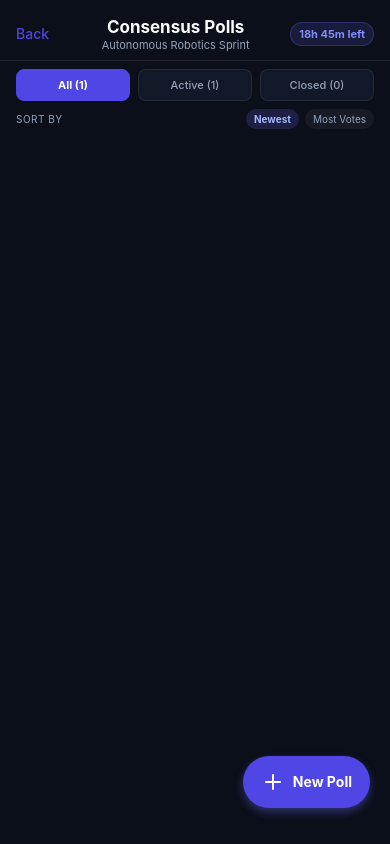
PollsScreen › opens CreatePollModal when FAB is pressed
Click the element with test id "create-poll-fab" at point(306, 782), box x1=243 y1=756 x2=370 y2=808
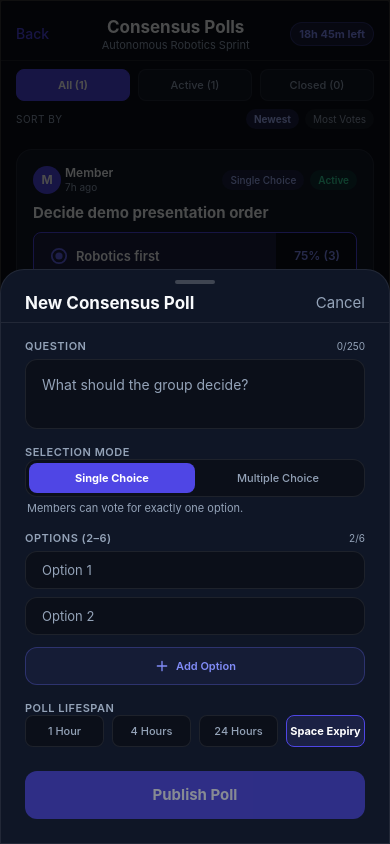
Expected: the text "New Consensus Poll" is shown, x1=25 y1=292 x2=194 y2=314
